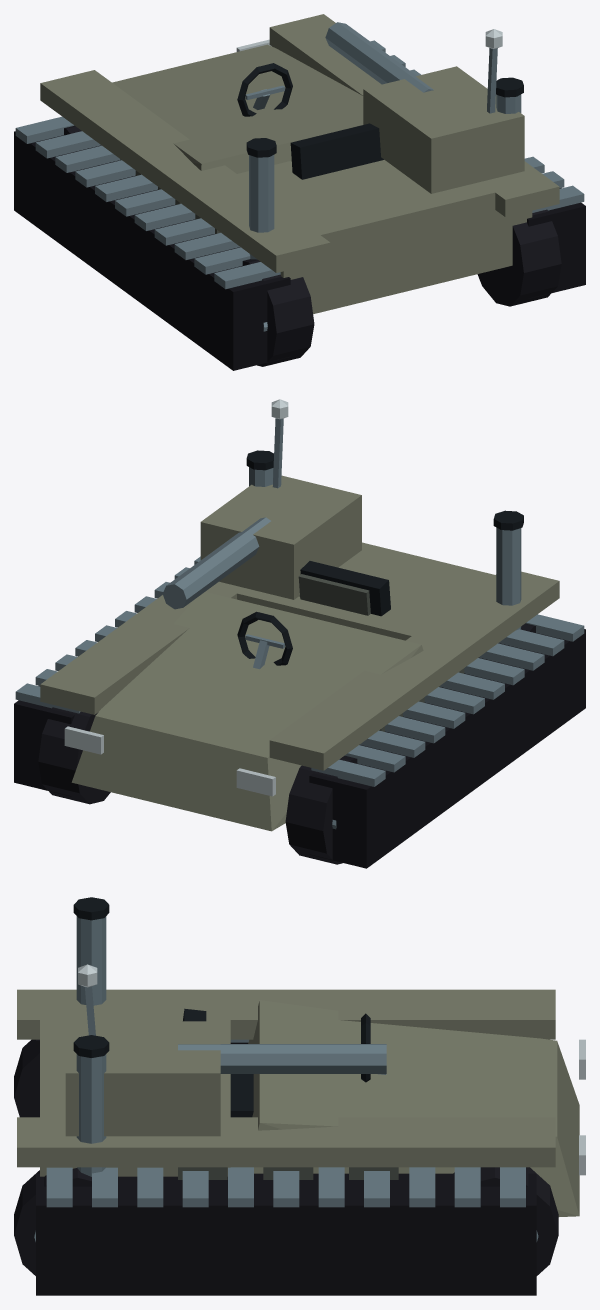
Rendered from kart.glb.
3 views of the same model, one above another, from view 1: azimuth 30°, elevation 25°; view 2: azimuth 150°, elevation 25°; view 3: azimuth 270°, elevation 25° (orthographic). The views are drawn at different scales.
Visible parts, largest first — view 1: identity-tank-tank-armored-hull, identity-tank-tank-full-length-tracks, identity-tank-driver-cockpit, wheel-rear-right, wheel-rear-left, identity-tank-motif-exhaust, identity-tank-motif-antenna; view 2: identity-tank-tank-armored-hull, identity-tank-tank-full-length-tracks, identity-tank-driver-cockpit, wheel-front-left, identity-tank-motif-exhaust, wheel-front-right, identity-tank-motif-antenna; view 3: identity-tank-tank-armored-hull, identity-tank-tank-full-length-tracks, identity-tank-motif-exhaust, wheel-front-right, wheel-rear-right, wheel-rear-left, identity-tank-driver-cockpit, identity-tank-motif-antenna.
Part boxes in pixels (left/top/right/bottom): identity-tank-tank-armored-hull: left=40, top=14, right=559, bottom=314; identity-tank-tank-full-length-tracks: left=14, top=40, right=585, bottom=370; identity-tank-driver-cockpit: left=237, top=63, right=383, bottom=179; wheel-rear-right: left=477, top=209, right=561, bottom=306; wheel-rear-left: left=242, top=259, right=314, bottom=366; identity-tank-motif-exhaust: left=246, top=77, right=523, bottom=259; identity-tank-motif-antenna: left=485, top=29, right=502, bottom=113; identity-tank-tank-armored-hull: left=40, top=475, right=559, bottom=831; identity-tank-tank-full-length-tracks: left=14, top=556, right=585, bottom=868; identity-tank-driver-cockpit: left=237, top=561, right=390, bottom=669; wheel-front-left: left=285, top=755, right=357, bottom=864; identity-tank-motif-exhaust: left=246, top=450, right=523, bottom=630; wheel-front-right: left=38, top=707, right=110, bottom=804; identity-tank-motif-antenna: left=271, top=399, right=288, bottom=488; identity-tank-tank-armored-hull: left=17, top=989, right=585, bottom=1216; identity-tank-tank-full-length-tracks: left=36, top=1039, right=536, bottom=1295; identity-tank-motif-exhaust: left=73, top=897, right=109, bottom=1176; wheel-front-right: left=453, top=1167, right=558, bottom=1275; wheel-rear-right: left=14, top=1168, right=91, bottom=1275; wheel-rear-left: left=14, top=1039, right=39, bottom=1117; identity-tank-driver-cockpit: left=183, top=1008, right=386, bottom=1117; identity-tank-motif-antenna: left=78, top=964, right=97, bottom=1035.
Bounding box in the file's own units: 2.38 × 1.72 × 2.88.
